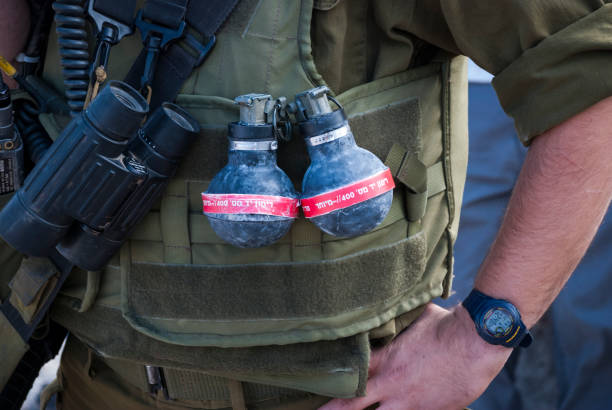e1: (297, 88, 399, 239), (202, 93, 295, 252)
